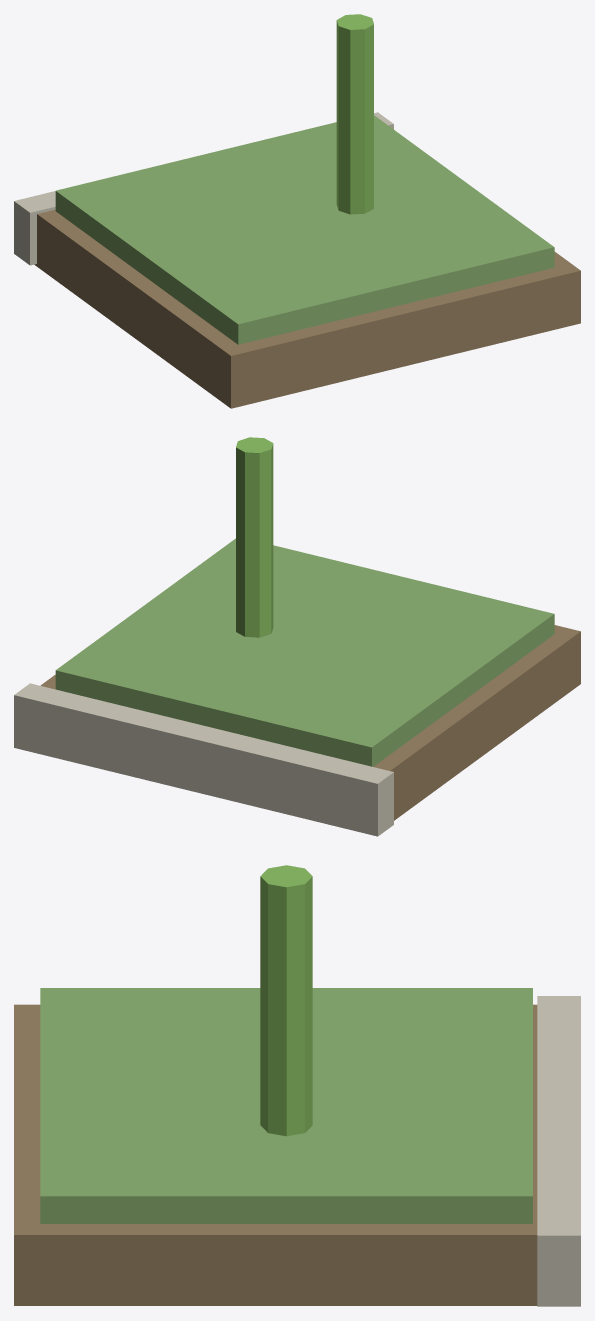
Rendered from 28_Tre.glb.
The picture shows the model from 3 angles, top to bottom: view 1: azimuth 30°, elevation 25°; view 2: azimuth 150°, elevation 25°; view 3: azimuth 270°, elevation 25°; orthographic projection. The views are drawn at different scales.
Visible parts, largest first — view 1: grass, soil, bamboo, border; view 2: grass, border, soil, bamboo; view 3: grass, soil, bamboo, border.
Boxes of the visible parts, bbox=[...] form: grass: bbox=[55, 115, 554, 344]; soil: bbox=[34, 209, 580, 408]; bamboo: bbox=[336, 14, 373, 214]; border: bbox=[14, 112, 393, 265]; grass: bbox=[55, 538, 554, 766]; border: bbox=[14, 683, 393, 836]; soil: bbox=[40, 625, 580, 820]; bamboo: bbox=[236, 437, 273, 637]; grass: bbox=[40, 988, 532, 1223]; soil: bbox=[14, 1004, 537, 1305]; bamboo: bbox=[260, 865, 312, 1136]; border: bbox=[537, 996, 580, 1306].
Size of the model in its own units: 1.3 by 0.88 by 1.3.
